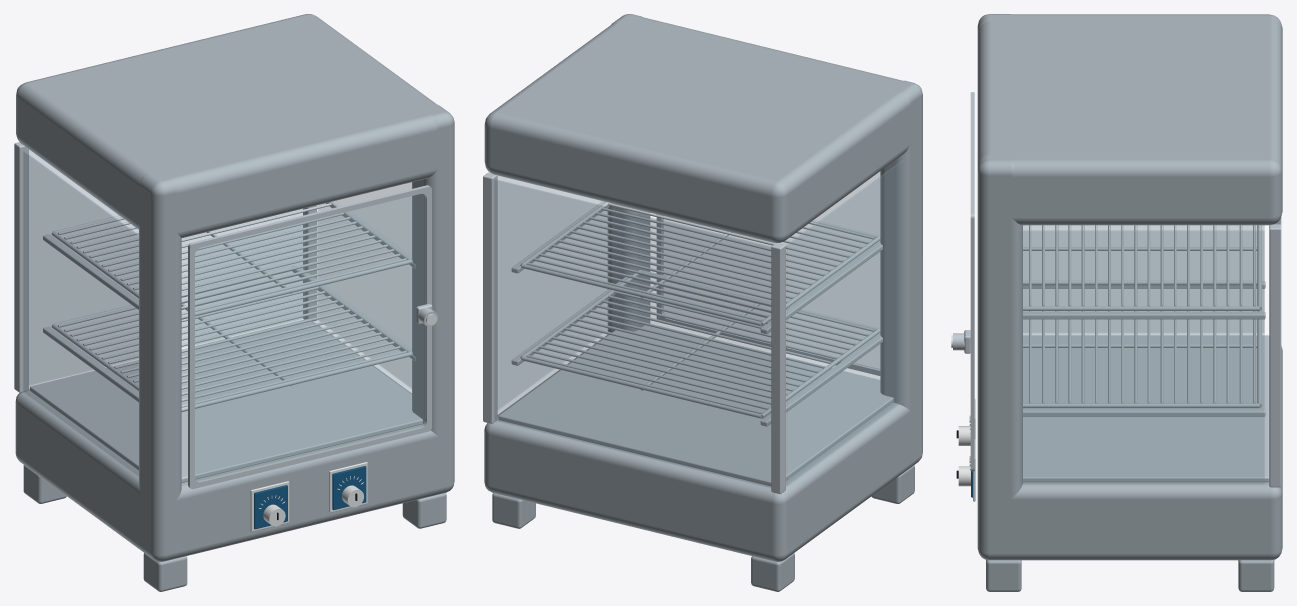
The model's file is pizza-config-2-gas-v1.glb.
3 views of the same model, side by side, from view 1: azimuth 30°, elevation 25°; view 2: azimuth 150°, elevation 25°; view 3: azimuth 270°, elevation 25° (orthographic). The views are drawn at different scales.
Visible parts, largest first — view 1: Equipo_Acero_satinado, Puerta_horno_pizza_Vidrio_ilustrativo_sin_especificacion, Equipo_Vidrio_ilustrativo_sin_especificacion, Equipo_Acero_pulido, Rejilla_1_Acero_pulido, Rejilla_2_Acero_pulido, Puerta_horno_pizza_Acero_pulido, Controles_gas_Pantalla_electrica_sin_valores, Controles_gas_Escala_sin_cifras; view 2: Equipo_Acero_satinado, Equipo_Vidrio_ilustrativo_sin_especificacion, Equipo_Acero_pulido, Rejilla_1_Acero_pulido, Rejilla_2_Acero_pulido, Puerta_horno_pizza_Vidrio_ilustrativo_sin_especificacion, Puerta_horno_pizza_Acero_pulido; view 3: Equipo_Acero_satinado, Equipo_Vidrio_ilustrativo_sin_especificacion, Equipo_Acero_pulido, Rejilla_1_Acero_pulido, Rejilla_2_Acero_pulido, Puerta_horno_pizza_Acero_pulido, Controles_gas_Escala_sin_cifras.
Part boxes in pixels (<box>): Equipo_Acero_satinado: <box>15,14,454,591</box>; Puerta_horno_pizza_Vidrio_ilustrativo_sin_especificacion: <box>195,194,425,481</box>; Equipo_Vidrio_ilustrativo_sin_especificacion: <box>23,150,411,476</box>; Equipo_Acero_pulido: <box>14,142,422,482</box>; Rejilla_1_Acero_pulido: <box>51,265,412,411</box>; Rejilla_2_Acero_pulido: <box>52,201,412,319</box>; Puerta_horno_pizza_Acero_pulido: <box>188,185,431,489</box>; Controles_gas_Pantalla_electrica_sin_valores: <box>254,466,366,529</box>; Controles_gas_Escala_sin_cifras: <box>250,462,367,531</box>; Equipo_Acero_satinado: <box>484,14,922,591</box>; Equipo_Vidrio_ilustrativo_sin_especificacion: <box>494,160,903,487</box>; Equipo_Acero_pulido: <box>483,172,893,494</box>; Rejilla_1_Acero_pulido: <box>520,270,880,418</box>; Rejilla_2_Acero_pulido: <box>520,202,880,326</box>; Puerta_horno_pizza_Vidrio_ilustrativo_sin_especificacion: <box>663,172,879,368</box>; Puerta_horno_pizza_Acero_pulido: <box>656,214,880,375</box>; Equipo_Acero_satinado: <box>977,14,1282,591</box>; Equipo_Vidrio_ilustrativo_sin_especificacion: <box>1020,223,1276,484</box>; Equipo_Acero_pulido: <box>1023,217,1281,487</box>; Rejilla_1_Acero_pulido: <box>1023,280,1261,408</box>; Rejilla_2_Acero_pulido: <box>1023,225,1261,310</box>; Puerta_horno_pizza_Acero_pulido: <box>970,92,974,471</box>; Controles_gas_Escala_sin_cifras: <box>958,399,975,501</box>.
Bounding box in the file's own units: 0.77 × 1 × 0.695.
